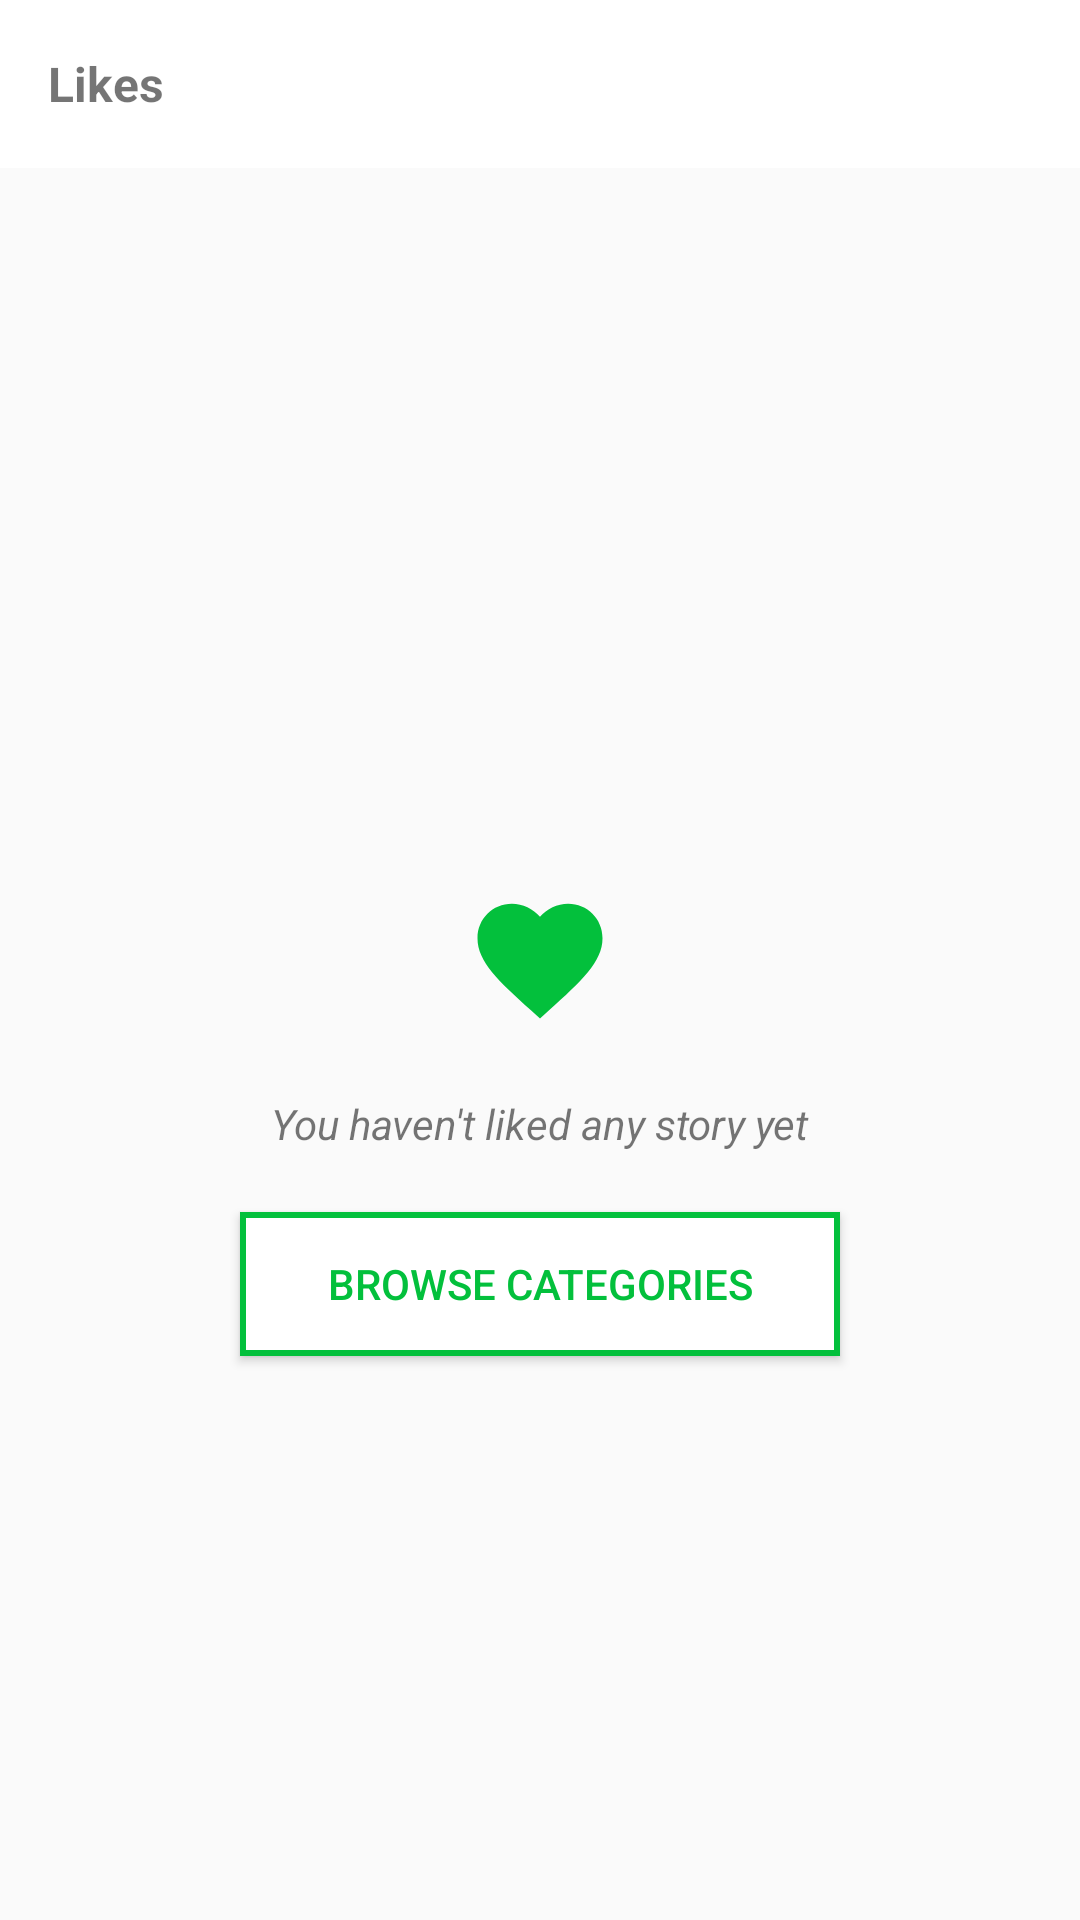

Named icons in this screenshot (1080 × 1920) and their centers, (x,y):
favorite: (540,961)
